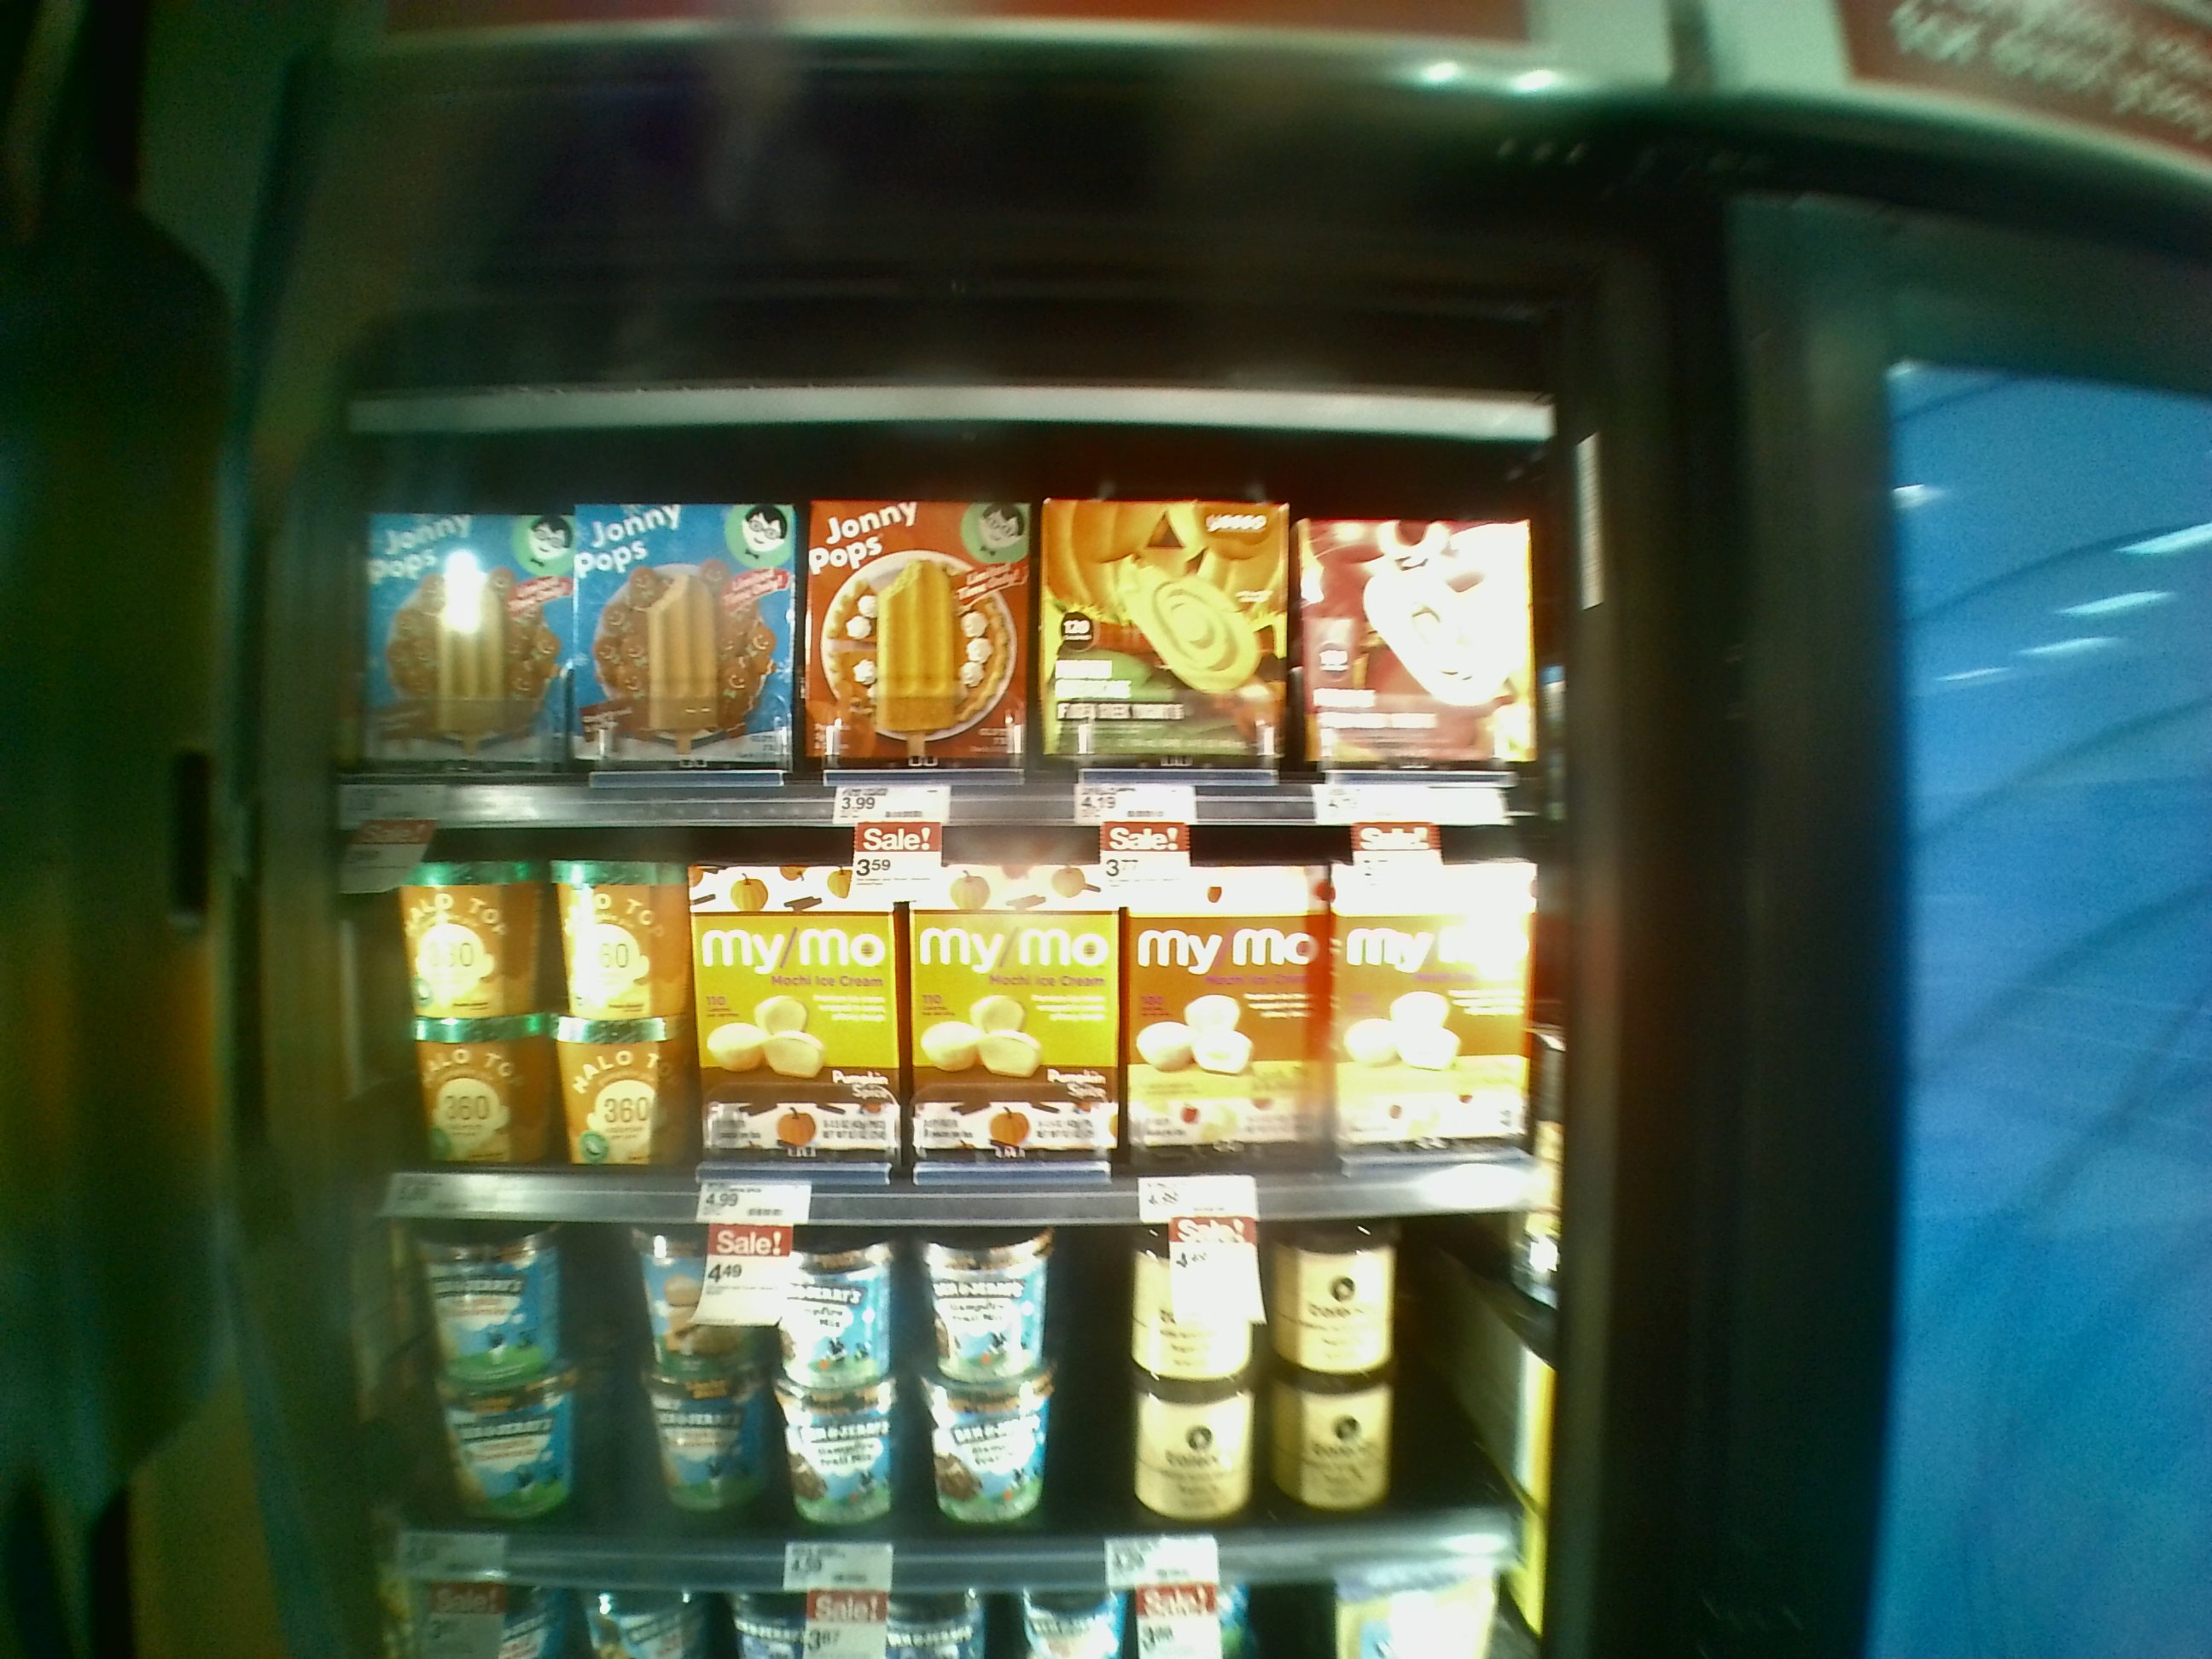shelf: (340, 796, 1561, 1201), (347, 416, 1548, 803), (354, 1195, 1536, 1577)
